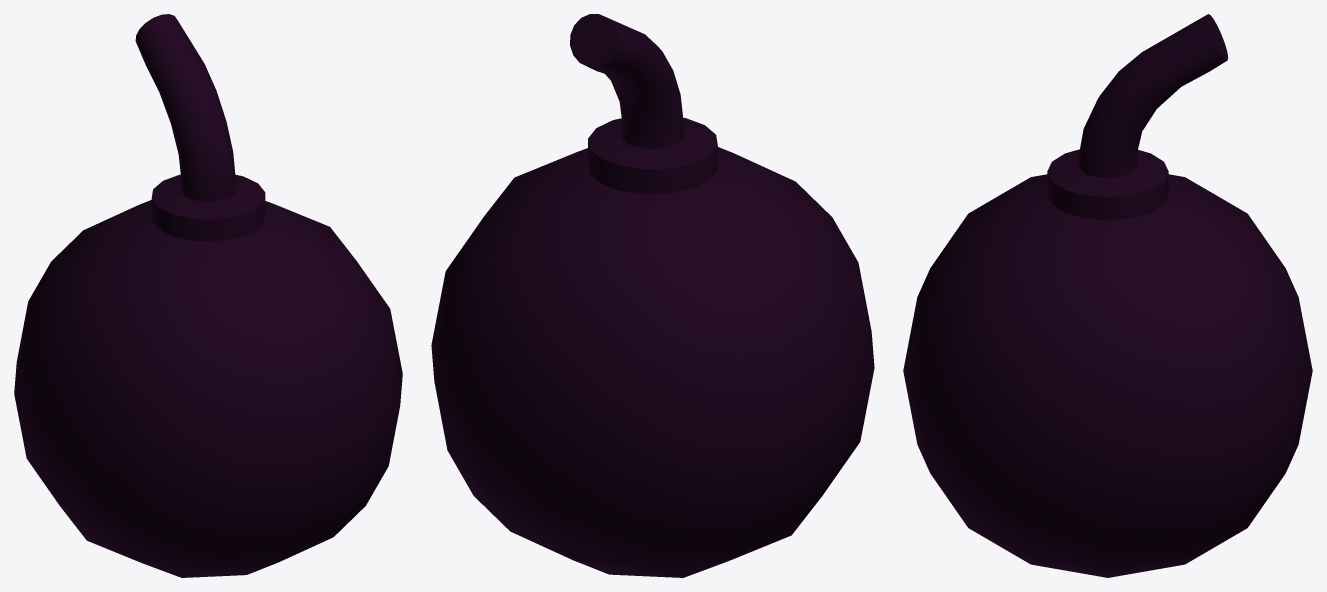
Rendered from bomba.glb.
The picture shows the model from 3 angles, left to right: view 1: azimuth 30°, elevation 25°; view 2: azimuth 150°, elevation 25°; view 3: azimuth 270°, elevation 25°; orthographic projection. The views are drawn at different scales.
Visible parts, largest first — view 1: Circle.002_Circle.005; view 2: Circle.002_Circle.005; view 3: Circle.002_Circle.005.
Part boxes in pixels (x1=…): Circle.002_Circle.005: x1=14, y1=14, x2=402, y2=577; Circle.002_Circle.005: x1=431, y1=14, x2=874, y2=577; Circle.002_Circle.005: x1=903, y1=14, x2=1312, y2=577.
Bounding box in the file's own units: 0.624 × 0.9079 × 0.624.
